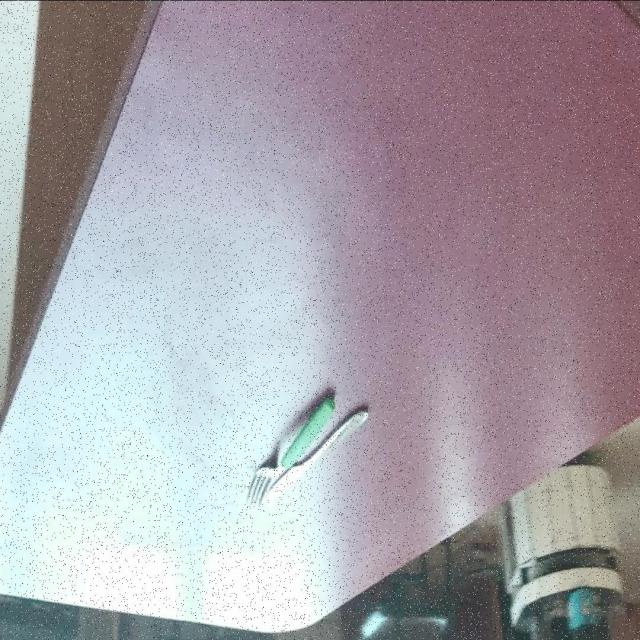Fork: (245, 404, 368, 506), (245, 392, 336, 505)
Knife: (245, 404, 368, 506)
